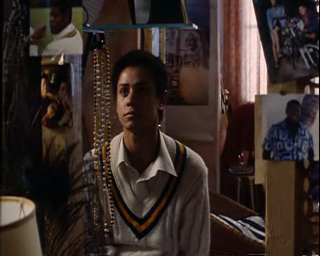face: (116, 78, 153, 129)
ms: (1, 1, 320, 256)
person: (81, 49, 211, 255)
